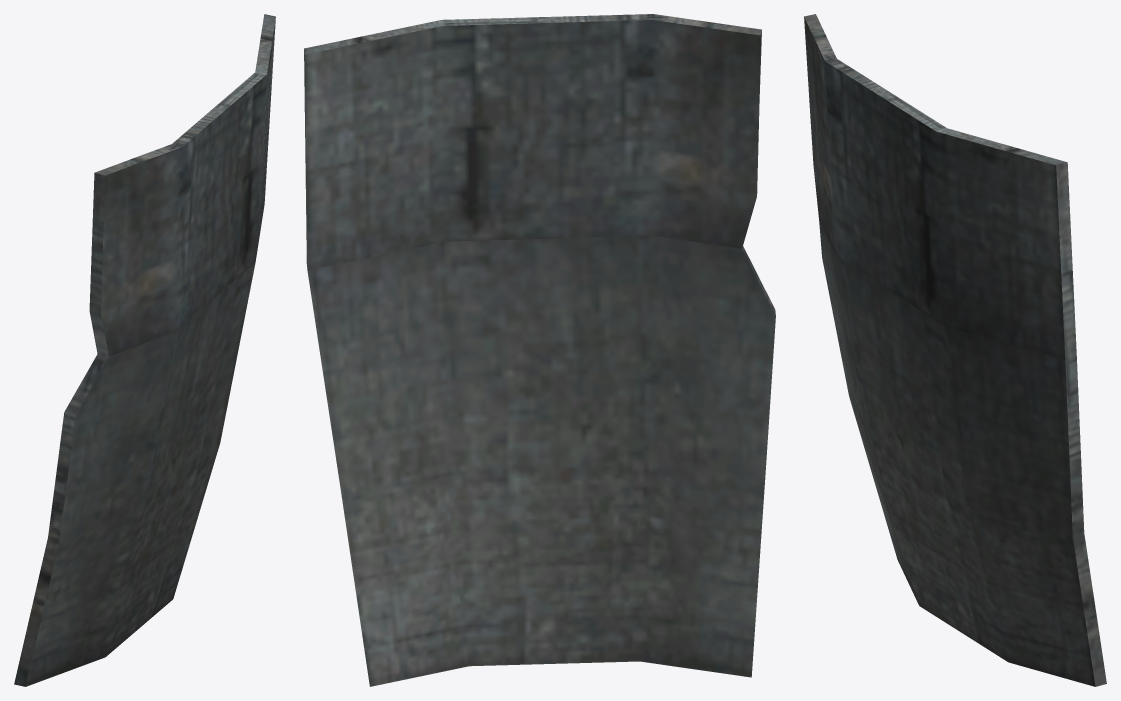
The model's file is flower_barrel_p2.glb.
3 views of the same model, side by side, from view 1: azimuth 30°, elevation 25°; view 2: azimuth 150°, elevation 25°; view 3: azimuth 270°, elevation 25° (orthographic). The views are drawn at different scales.
Parts seen in each view (by area): view 1: flower_barrel_p2; view 2: flower_barrel_p2; view 3: flower_barrel_p2.
Part boxes in pixels (x1,y1,x2,y2): flower_barrel_p2: [14, 14, 275, 686]; flower_barrel_p2: [304, 14, 775, 686]; flower_barrel_p2: [804, 14, 1106, 686].
Bounding box in the file's own units: 0.2849 × 0.439 × 0.2148.
1 material, 1 textured.
